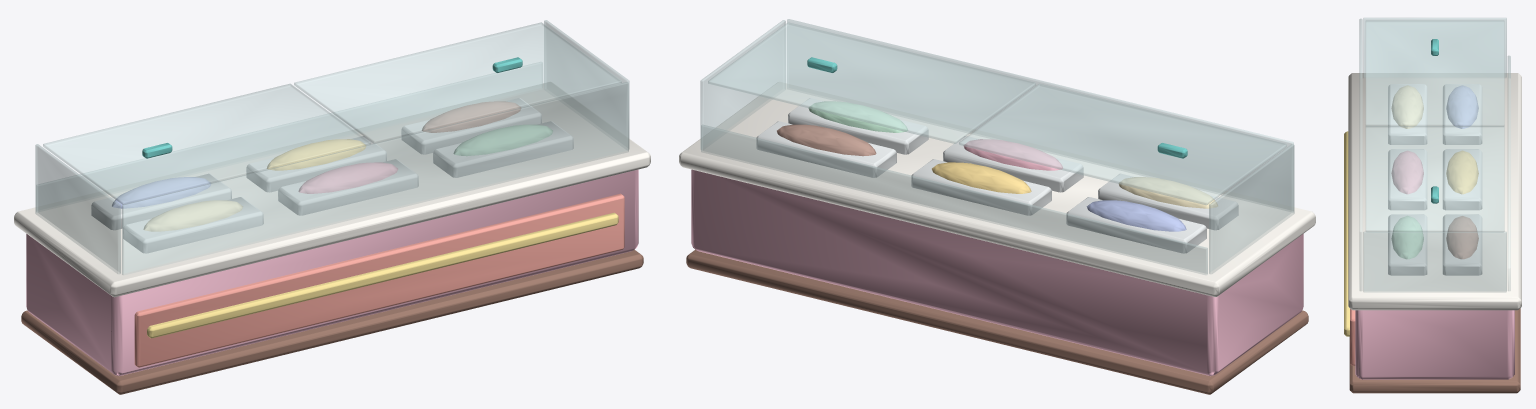
The model's file is ice_cream_display_counter.glb.
The picture shows the model from 3 angles, left to right: view 1: azimuth 30°, elevation 25°; view 2: azimuth 150°, elevation 25°; view 3: azimuth 270°, elevation 25°; orthographic projection. The views are drawn at different scales.
Visible parts, largest first — view 1: DisplayCounter_GlassFront, DisplayCounter_TopLip, DisplayCounter_FrontInset, DisplayCounter_Base, Display_Lid_Right, Display_Lid_Left, DisplayCounter_GlassBack, DisplayCounter_Platform, DisplayCounter_FrontStripe, DisplayCounter_GlassLeft, DisplayCounter_GlassRight, Display_Tub_01 (+11 smaller); view 2: DisplayCounter_Base, DisplayCounter_TopLip, DisplayCounter_GlassFront, Display_Lid_Right, Display_Lid_Left, DisplayCounter_GlassBack, DisplayCounter_Platform, DisplayCounter_GlassLeft, DisplayCounter_GlassRight, Display_Tub_04, Display_Tub_06, Display_Tub_05 (+9 smaller); view 3: DisplayCounter_TopLip, Display_Lid_Right, Display_Lid_Left, DisplayCounter_Base, DisplayCounter_GlassRight, DisplayCounter_GlassLeft, DisplayCounter_Platform, Display_Tub_05, Display_Tub_06, Display_Tub_04, Display_Tub_02, Display_Tub_03 (+11 smaller).
Part boxes in pixels (x1,y1,x2,y2): DisplayCounter_GlassFront: (122, 82, 628, 274); DisplayCounter_TopLip: (14, 82, 650, 297); DisplayCounter_FrontInset: (134, 193, 624, 367); DisplayCounter_Base: (26, 169, 638, 375); Display_Lid_Right: (294, 22, 621, 143); Display_Lid_Left: (43, 83, 370, 204); DisplayCounter_GlassBack: (36, 62, 542, 211); DisplayCounter_Platform: (21, 249, 643, 394); DisplayCounter_FrontStripe: (147, 212, 618, 338); DisplayCounter_GlassLeft: (35, 144, 120, 273); DisplayCounter_GlassRight: (544, 20, 629, 149); Display_Tub_01: (123, 197, 263, 253); DisplayCounter_Base: (691, 169, 1303, 376); DisplayCounter_TopLip: (679, 82, 1315, 297); DisplayCounter_GlassFront: (787, 19, 1293, 211); Display_Lid_Right: (708, 22, 1035, 143); Display_Lid_Left: (959, 83, 1286, 205); DisplayCounter_GlassBack: (701, 124, 1207, 274); DisplayCounter_Platform: (686, 249, 1308, 394); DisplayCounter_GlassLeft: (1209, 144, 1294, 273); DisplayCounter_GlassRight: (700, 20, 785, 149); Display_Tub_04: (1066, 197, 1206, 253); Display_Tub_06: (756, 121, 896, 177); Display_Tub_05: (911, 159, 1051, 215); DisplayCounter_TopLip: (1348, 73, 1521, 310); Display_Lid_Right: (1365, 126, 1504, 232); Display_Lid_Left: (1365, 20, 1504, 126); DisplayCounter_Base: (1355, 310, 1514, 379); DisplayCounter_GlassRight: (1363, 231, 1506, 292); DisplayCounter_GlassLeft: (1363, 17, 1506, 77); DisplayCounter_Platform: (1349, 308, 1520, 393); Display_Tub_05: (1442, 149, 1482, 210); Display_Tub_06: (1442, 214, 1482, 275); Display_Tub_04: (1442, 84, 1482, 144); Display_Tub_02: (1388, 149, 1427, 210); Display_Tub_03: (1388, 214, 1427, 275).
Bounding box in the file's own units: 4.72 × 1.61 × 1.56.
